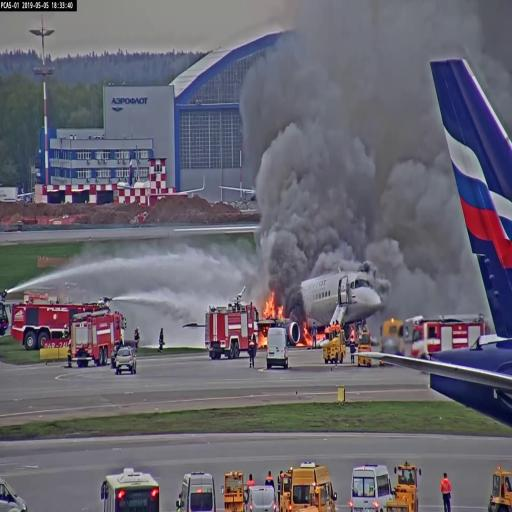smoke: (262, 63, 372, 271)
